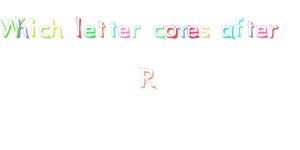R: (129, 62, 166, 92)
W: (1, 14, 20, 46)
a: (218, 21, 234, 41)
c: (150, 21, 166, 42), (38, 22, 51, 40)
e: (187, 20, 200, 42), (117, 20, 130, 41), (255, 20, 268, 41), (83, 24, 98, 40)
f: (233, 14, 245, 39)
h: (49, 14, 67, 45), (16, 13, 29, 45)
i: (28, 16, 39, 40)
l: (70, 16, 85, 41)
m: (174, 19, 189, 43)
o: (164, 21, 177, 42)
r: (267, 19, 282, 39), (130, 20, 142, 42)
s: (199, 21, 214, 41)
t: (96, 15, 107, 40), (244, 19, 256, 39), (108, 18, 118, 39)
